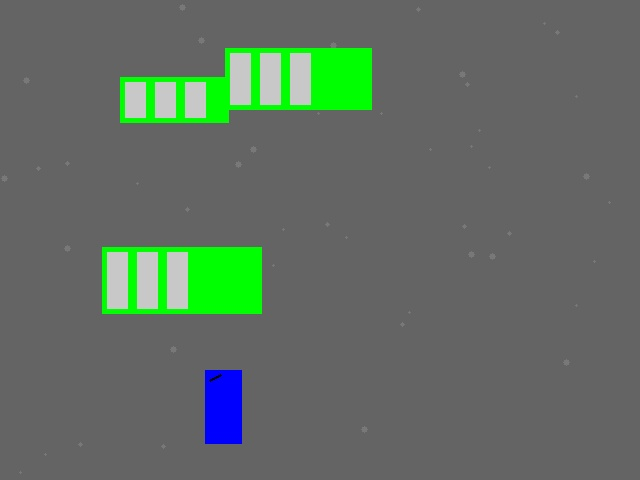bus: (102, 247, 261, 313), (225, 48, 371, 109), (120, 77, 228, 122)
motorcycle: (205, 370, 241, 443)
